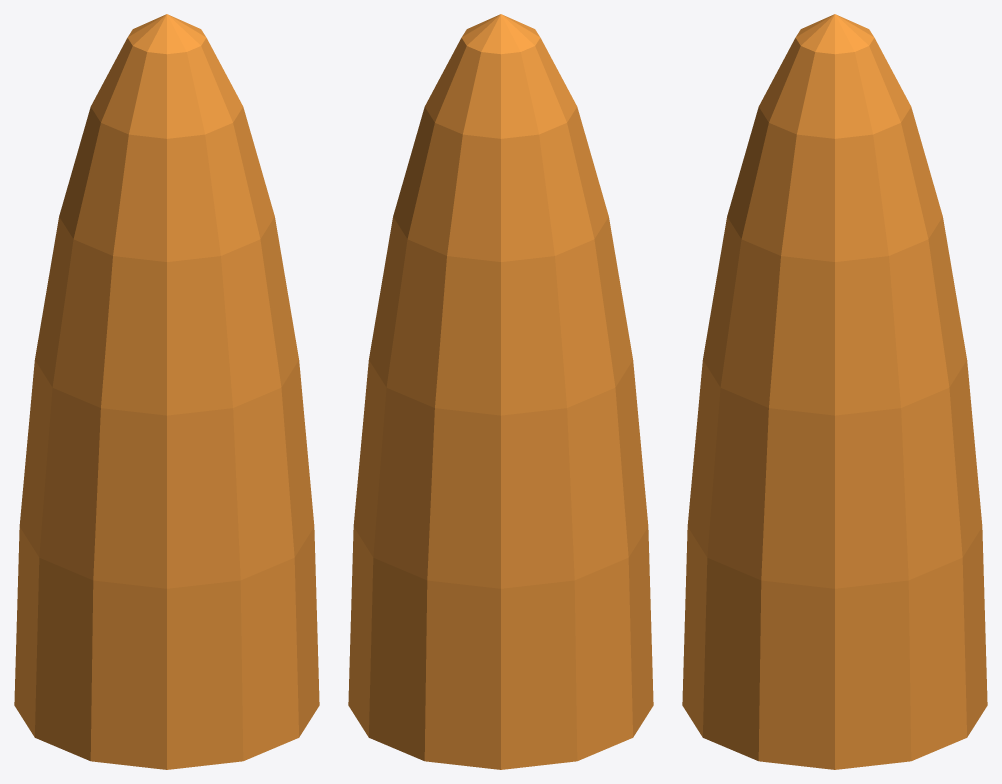
File: 7.62 Bullet_3DModel_3.fbx
3 renders of one model, left to right at view 1: azimuth 30°, elevation 25°; view 2: azimuth 150°, elevation 25°; view 3: azimuth 270°, elevation 25°, orthographic.
Parts seen in each view (by area): view 1: Bullet; view 2: Bullet; view 3: Bullet.
Boxes of the visible parts, x1,y1,x2,y2 form: Bullet: (14, 14, 319, 769); Bullet: (348, 14, 653, 769); Bullet: (682, 14, 987, 769).
Bounding box in the file's own units: 0.05 × 0.125 × 0.05.
